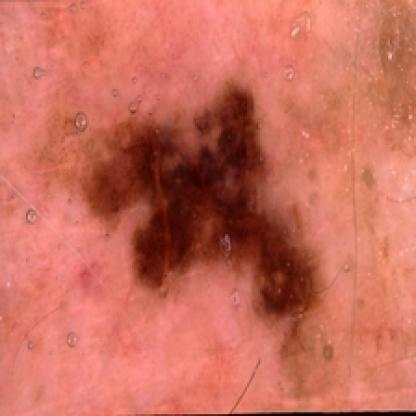Skin_Cancer-Malignant: (82, 81, 323, 324)
